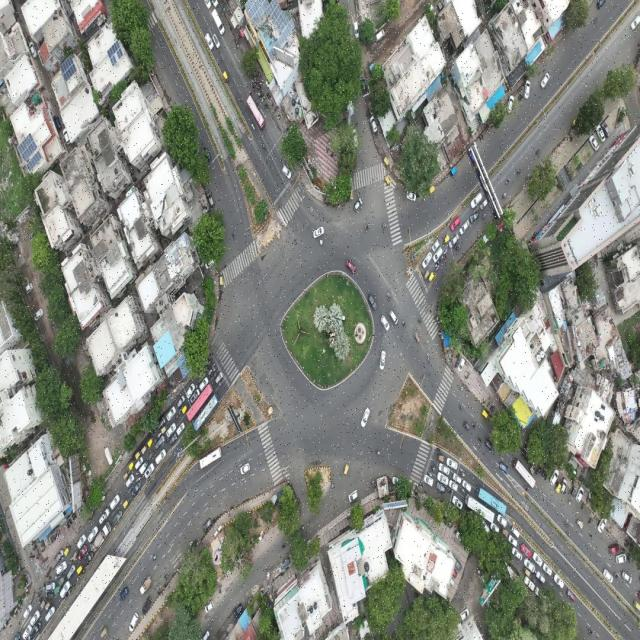3W: (341, 458, 351, 478), (73, 561, 85, 577), (448, 162, 460, 178), (99, 623, 110, 640), (427, 182, 438, 198), (383, 155, 392, 174), (221, 67, 230, 84), (412, 329, 421, 346), (435, 451, 446, 464), (384, 172, 391, 191), (44, 598, 54, 611), (62, 544, 72, 557), (554, 481, 562, 497), (569, 484, 578, 498), (52, 584, 62, 596), (570, 115, 578, 130), (423, 267, 431, 282), (521, 567, 531, 579), (500, 526, 510, 538), (442, 233, 451, 246), (72, 546, 79, 562), (122, 468, 130, 482), (480, 407, 489, 419), (462, 420, 471, 432), (631, 598, 640, 610), (40, 595, 47, 610), (128, 457, 135, 472), (123, 496, 131, 509), (427, 271, 435, 284), (141, 442, 148, 456), (218, 273, 224, 289), (147, 436, 154, 449), (58, 574, 66, 585), (148, 448, 154, 462), (161, 424, 168, 435), (135, 449, 141, 461), (182, 404, 188, 414)
Bus: (192, 394, 220, 439), (475, 481, 508, 517), (185, 382, 214, 422), (464, 490, 496, 526), (511, 453, 537, 491), (246, 93, 268, 133), (196, 449, 225, 472)
Cars: (356, 403, 372, 432), (141, 593, 154, 615), (98, 505, 111, 527), (511, 545, 525, 564), (201, 513, 213, 535), (86, 525, 100, 543), (539, 70, 551, 91), (60, 580, 72, 600), (237, 460, 252, 476), (154, 448, 167, 466), (129, 610, 139, 633), (280, 162, 292, 181), (628, 13, 640, 32), (602, 567, 614, 586), (54, 560, 68, 576), (204, 30, 214, 52), (595, 124, 606, 144), (600, 120, 611, 140), (44, 605, 56, 623), (130, 480, 142, 498), (189, 387, 201, 405), (345, 258, 357, 276), (470, 192, 482, 210), (432, 246, 444, 264), (388, 309, 400, 327), (596, 516, 608, 534), (621, 568, 633, 586), (553, 572, 565, 590), (532, 550, 544, 568), (506, 94, 516, 115), (31, 620, 42, 639), (112, 507, 123, 526), (589, 134, 600, 153), (422, 251, 433, 270), (367, 293, 378, 312), (312, 224, 325, 240), (520, 542, 533, 558), (203, 598, 216, 614), (22, 602, 34, 619), (449, 215, 461, 232), (379, 315, 391, 332), (452, 494, 464, 511), (456, 354, 466, 374), (110, 493, 121, 511), (166, 404, 177, 422), (203, 144, 212, 166), (406, 186, 417, 204), (459, 219, 470, 237), (436, 471, 449, 486), (347, 489, 360, 504), (75, 533, 87, 549), (198, 376, 210, 392), (378, 348, 386, 372), (523, 556, 535, 572), (212, 32, 222, 51), (359, 73, 368, 94), (85, 550, 96, 567), (154, 434, 165, 451), (448, 233, 459, 250), (576, 483, 584, 506), (30, 610, 43, 624), (446, 456, 459, 470), (438, 462, 451, 476), (43, 580, 58, 592), (186, 382, 196, 400), (207, 189, 216, 209), (549, 468, 559, 486), (66, 564, 77, 580), (144, 463, 155, 479), (166, 422, 177, 438), (175, 393, 186, 409), (523, 79, 531, 101), (499, 460, 510, 476), (542, 562, 553, 578), (214, 370, 224, 387), (353, 197, 363, 214), (234, 602, 244, 619), (118, 586, 130, 600), (469, 210, 481, 224), (608, 541, 620, 555), (496, 512, 508, 526), (125, 473, 136, 488), (423, 473, 434, 488), (353, 18, 360, 41), (78, 545, 88, 561), (134, 456, 144, 472), (370, 113, 378, 133), (375, 28, 385, 44), (485, 438, 495, 454), (566, 586, 576, 602), (536, 570, 546, 586), (508, 532, 518, 548), (510, 524, 520, 540), (490, 521, 500, 537), (449, 478, 459, 494), (22, 624, 33, 638), (54, 548, 65, 562), (452, 471, 463, 485), (435, 480, 446, 494), (560, 477, 568, 496), (168, 433, 178, 448), (614, 552, 626, 564), (200, 628, 212, 640), (176, 422, 186, 436), (352, 128, 359, 148), (462, 479, 472, 493), (432, 238, 441, 253), (480, 198, 488, 212), (158, 416, 166, 429)
LCV: (211, 5, 227, 38), (522, 575, 536, 592), (138, 458, 148, 474)
M2W: (586, 625, 596, 637), (278, 538, 286, 552), (151, 550, 160, 562), (565, 527, 572, 539), (362, 222, 371, 231), (458, 484, 466, 494), (580, 500, 586, 513), (457, 383, 464, 394), (68, 556, 74, 568), (480, 130, 486, 142), (374, 448, 382, 457), (37, 596, 44, 606), (45, 572, 52, 582), (380, 220, 387, 230), (592, 16, 599, 26), (500, 191, 507, 201), (457, 403, 464, 413), (563, 518, 570, 528), (426, 468, 433, 478), (67, 516, 73, 527), (534, 147, 540, 158), (522, 483, 528, 494), (299, 522, 305, 533), (79, 568, 86, 577), (503, 178, 510, 187), (429, 463, 436, 472), (231, 230, 237, 240), (250, 121, 256, 131), (386, 291, 392, 301), (627, 551, 632, 563), (460, 470, 466, 480), (446, 484, 452, 494), (329, 482, 335, 492), (36, 590, 43, 598), (623, 538, 630, 546), (72, 511, 77, 522), (36, 552, 42, 561), (65, 521, 71, 530), (177, 407, 183, 416), (207, 368, 213, 377), (470, 421, 476, 430), (542, 461, 545, 479), (531, 577, 537, 586), (73, 580, 78, 590), (261, 140, 266, 150), (478, 134, 483, 144), (481, 212, 486, 222), (456, 242, 461, 252), (439, 254, 444, 264), (477, 435, 482, 445), (613, 571, 618, 581), (44, 591, 51, 598), (52, 532, 56, 544), (57, 526, 60, 542), (84, 548, 90, 556), (88, 541, 94, 549), (208, 352, 214, 360), (515, 168, 521, 176), (536, 465, 540, 477), (433, 460, 439, 468), (276, 112, 281, 121), (443, 247, 448, 256), (435, 259, 440, 268), (401, 319, 406, 328), (53, 576, 60, 582), (259, 78, 265, 85), (434, 266, 441, 272), (620, 547, 626, 554), (68, 586, 72, 596), (50, 535, 54, 545), (132, 467, 137, 475), (248, 90, 253, 98), (453, 242, 458, 250), (588, 514, 592, 524), (436, 446, 441, 454), (539, 464, 542, 477), (234, 44, 240, 50), (255, 97, 259, 106), (165, 438, 170, 445), (443, 253, 448, 260), (140, 473, 144, 481), (261, 96, 265, 104), (273, 106, 277, 114), (518, 88, 522, 96), (136, 477, 141, 483), (147, 434, 153, 439), (251, 76, 256, 82), (519, 97, 524, 103), (532, 460, 535, 470), (33, 544, 37, 551), (136, 469, 140, 476), (158, 432, 162, 439), (218, 380, 222, 387), (211, 357, 215, 364), (252, 83, 255, 92), (254, 80, 259, 85), (146, 478, 150, 484), (154, 438, 158, 444), (175, 414, 179, 420), (213, 371, 217, 377), (213, 366, 217, 372), (212, 363, 216, 369), (266, 94, 270, 100), (266, 104, 269, 112), (545, 470, 547, 482), (211, 372, 214, 379), (256, 82, 259, 89), (194, 384, 198, 389), (257, 85, 261, 90), (258, 92, 263, 96), (522, 448, 524, 458), (524, 450, 526, 460), (270, 104, 273, 110), (264, 101, 266, 109), (266, 92, 269, 96)
Truck: (86, 519, 114, 557)
